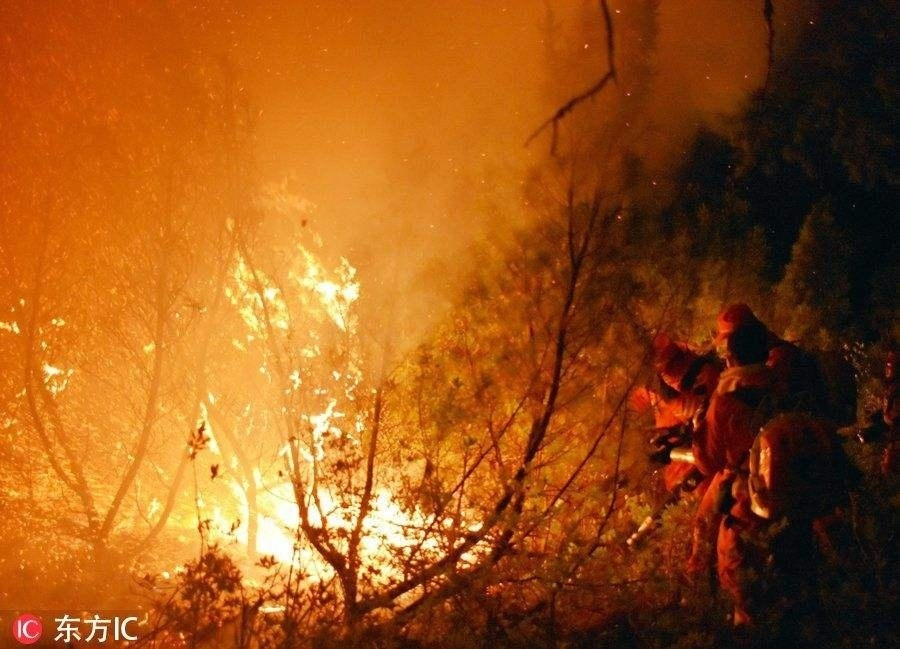fire: (175, 229, 445, 614)
